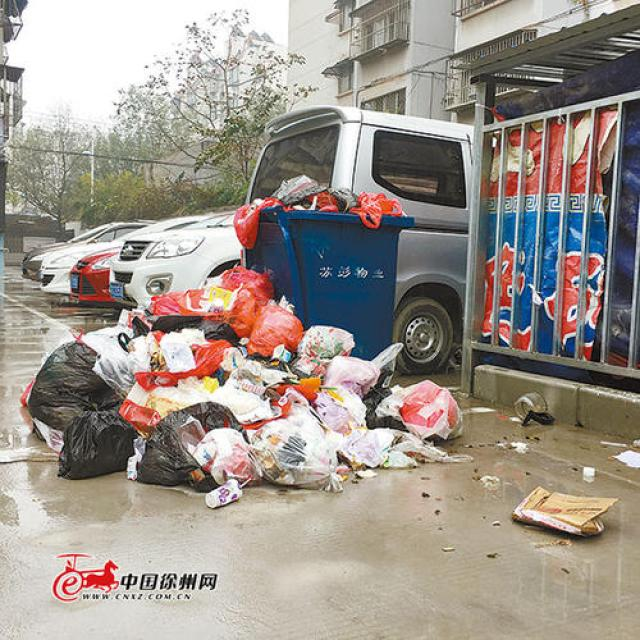garbage: (18, 264, 639, 535)
overflow: (233, 175, 416, 356)
